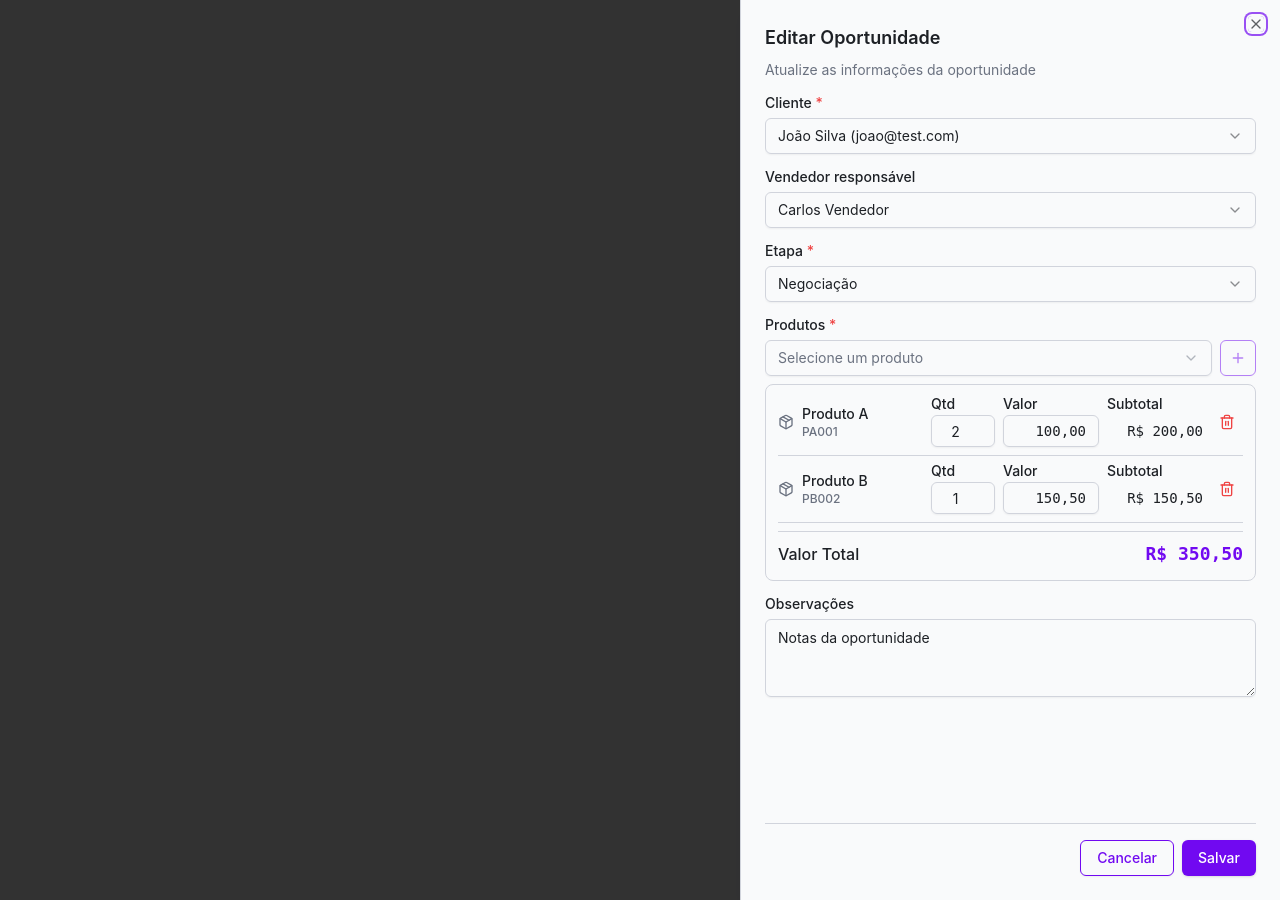
FormularioOportunidade › Loading state › should disable buttons when salvando
What coordinates should you click on to do the following:
click the button "Salvar"
I would click on:
 (1219, 858)
Its box is [1182, 840, 1256, 876].
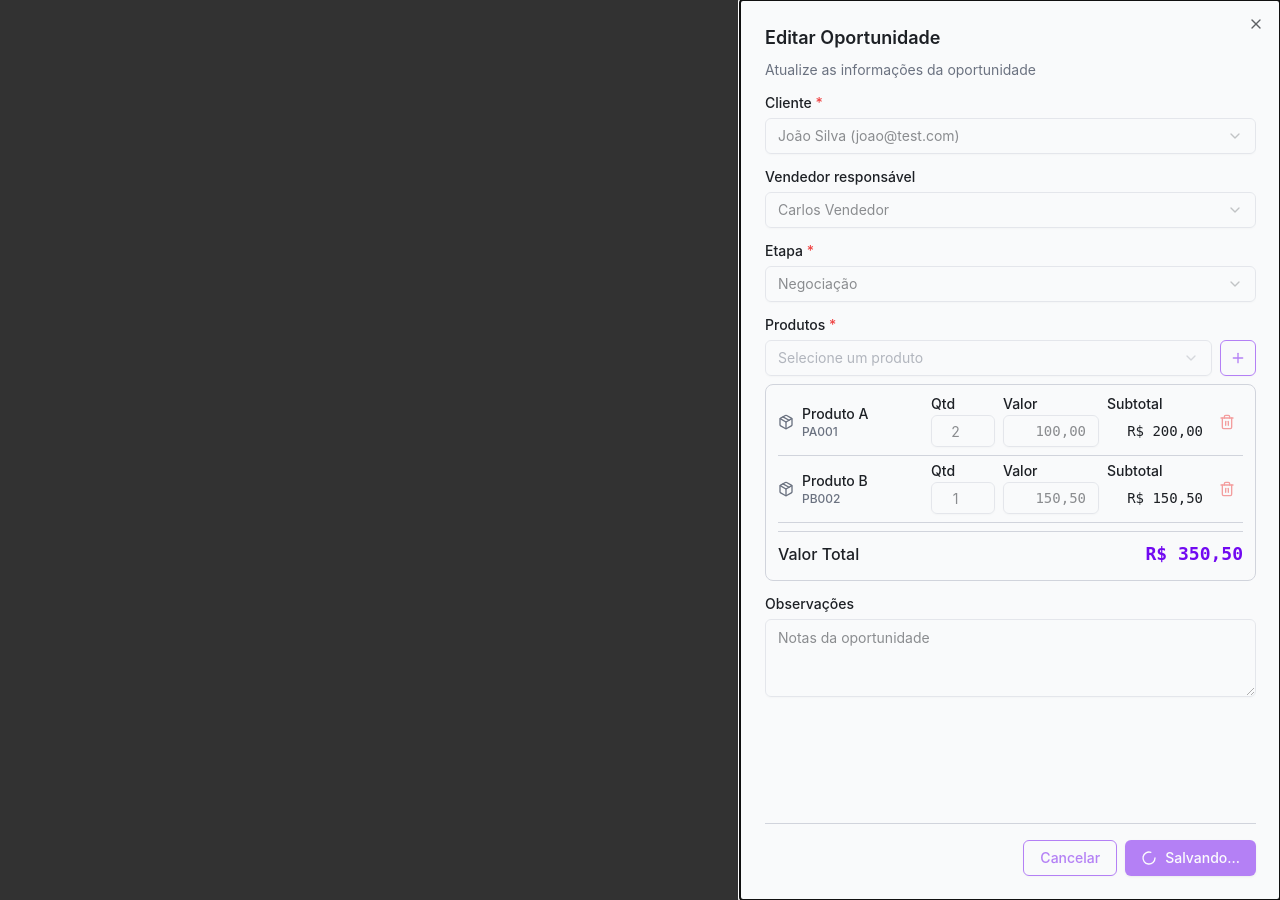
Check: the button "Salvando..." is shown, box [1125, 840, 1256, 876]
Check: the button "Cancelar" is disabled, box [1023, 840, 1117, 876]
